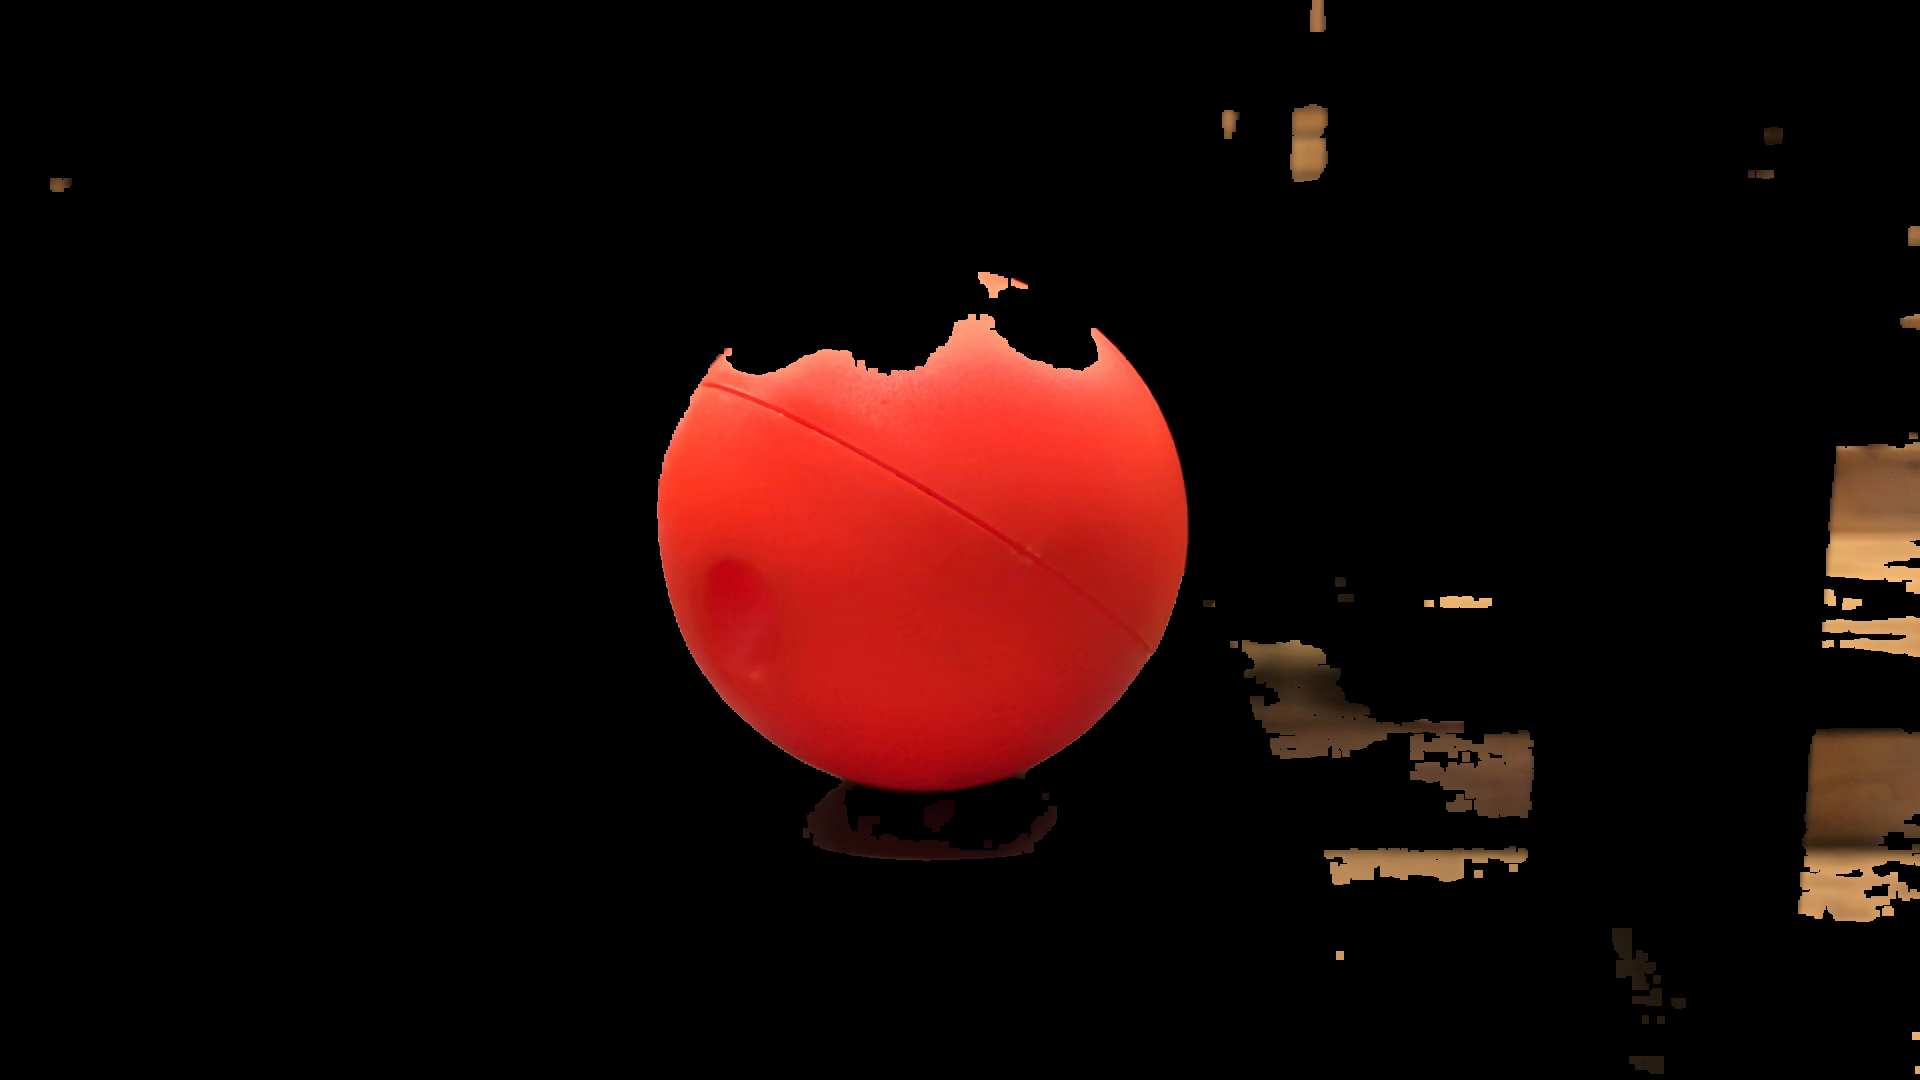Ball: (642, 261, 1200, 789)
